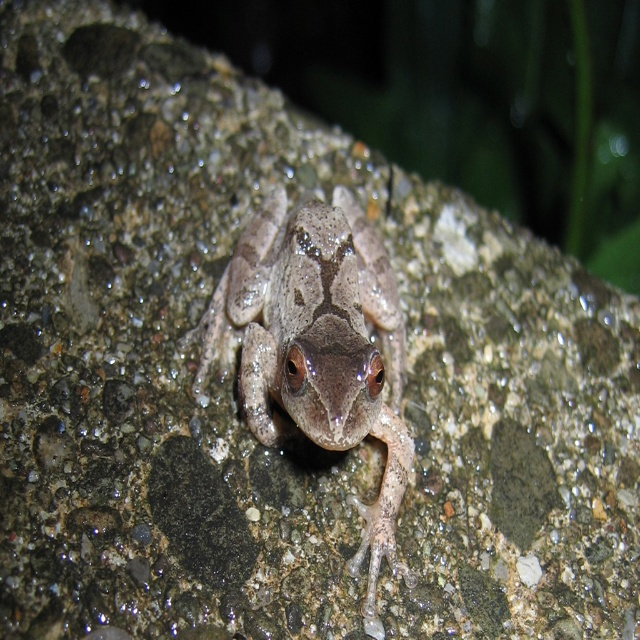Frog: (174, 184, 415, 620)
